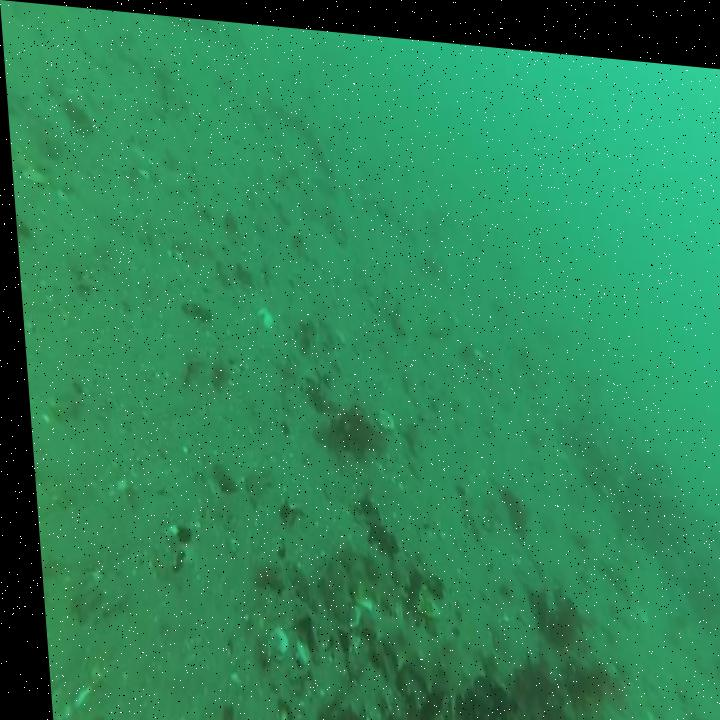echinus: (489, 471, 524, 535)
holothurian: (344, 582, 489, 710)
